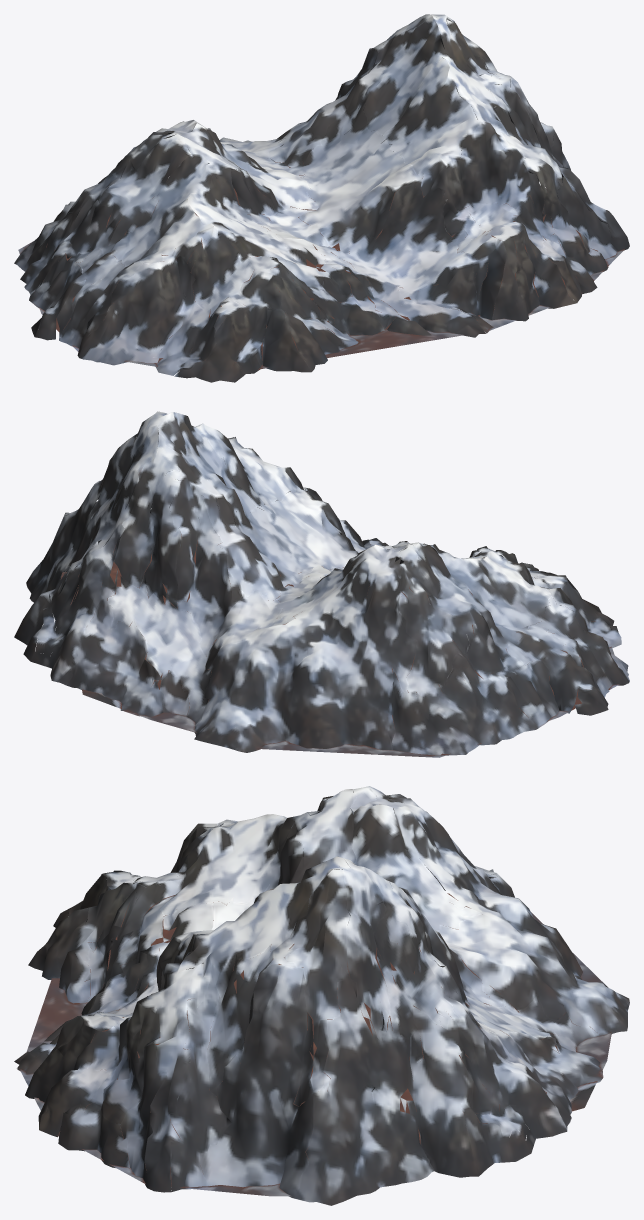
File: MTN_peak_2.glb
3 renders of one model, top to bottom at view 1: azimuth 30°, elevation 25°; view 2: azimuth 150°, elevation 25°; view 3: azimuth 270°, elevation 25°, orthographic. The views are drawn at different scales.
Visible parts, largest first — view 1: geometry_0; view 2: geometry_0; view 3: geometry_0.
Boxes of the visible parts, <box> form: geometry_0: <box>14,14,629,382</box>; geometry_0: <box>14,411,629,757</box>; geometry_0: <box>14,786,629,1205</box>.
Size of the model in its own units: 0.9568 by 0.337 by 0.7236.
1 material, 1 textured.
